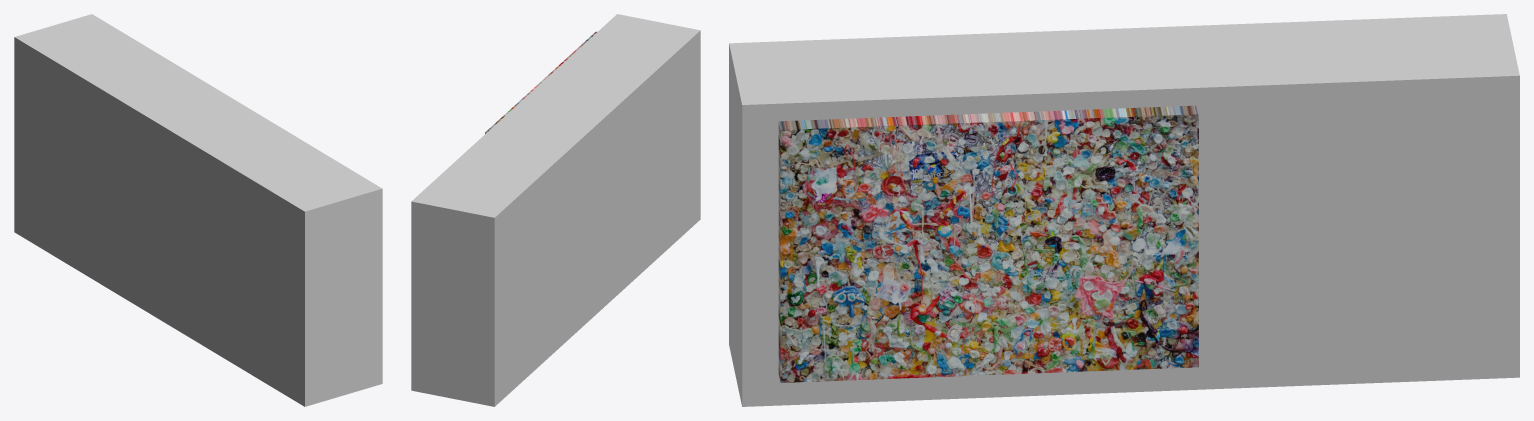
The model's file is first.glb.
The picture shows the model from 3 angles, left to right: view 1: azimuth 30°, elevation 25°; view 2: azimuth 150°, elevation 25°; view 3: azimuth 270°, elevation 25°; orthographic projection. The views are drawn at different scales.
Visible parts, largest first — view 1: SketchUp; view 2: SketchUp, SketchUp.001; view 3: SketchUp, SketchUp.001.
Part boxes in pixels (x1,y1,x2,y2): SketchUp: (14, 14, 382, 406); SketchUp: (411, 14, 700, 406); SketchUp.001: (485, 31, 596, 133); SketchUp: (729, 14, 1519, 406); SketchUp.001: (778, 105, 1198, 382).
Bounding box in the file's own units: 11.23 × 16.07 × 38.15.
Materials: 2 (1 with a texture image).
